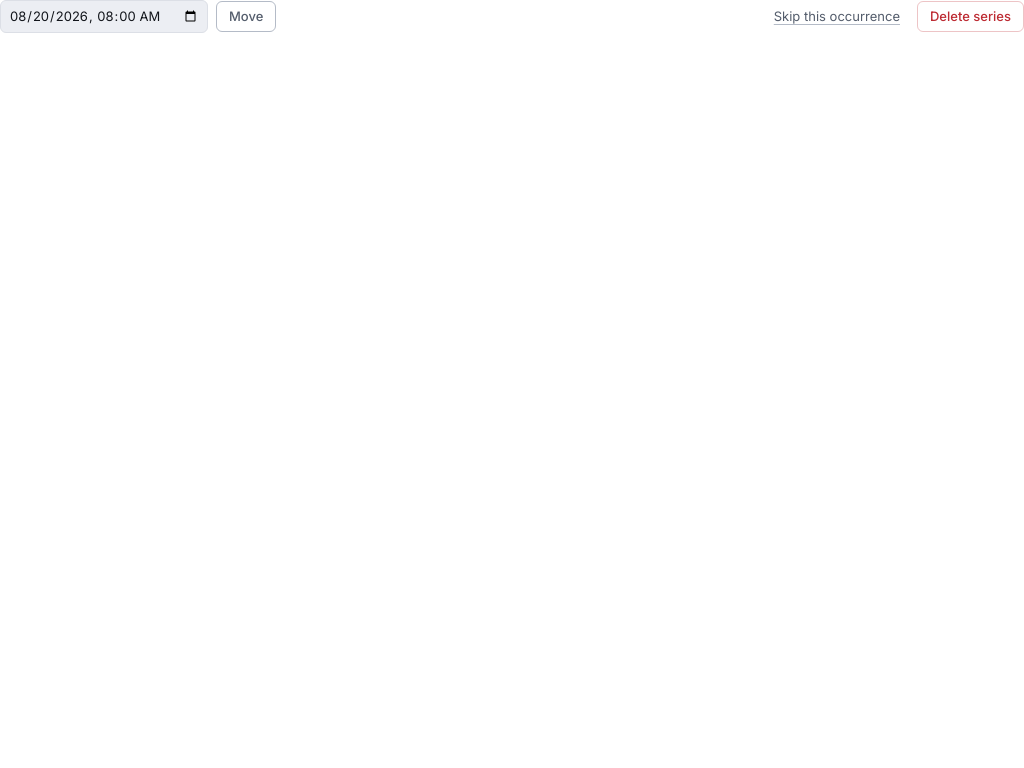
Test case: skipping and deleting › leaves the series standing when the modal is cancelled
Click the button "Delete series" at (970, 17), box top-left (917, 1), bottom-right (1023, 32)
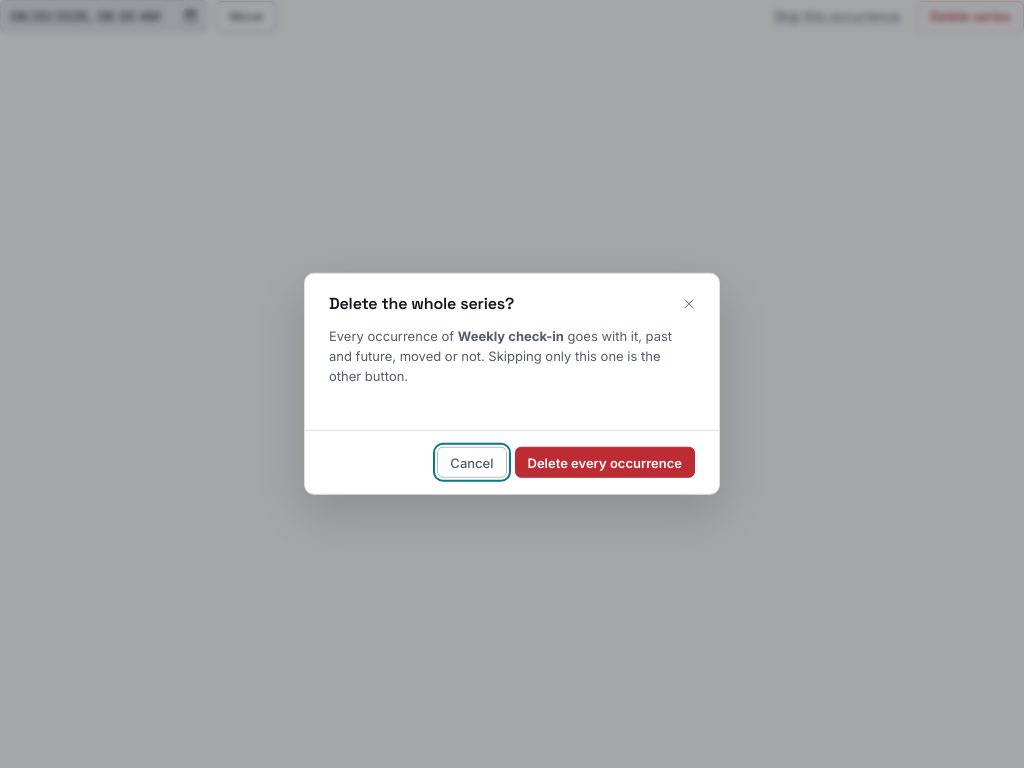
Click the button "Cancel" at (472, 463), box top-left (437, 447), bottom-right (506, 478)
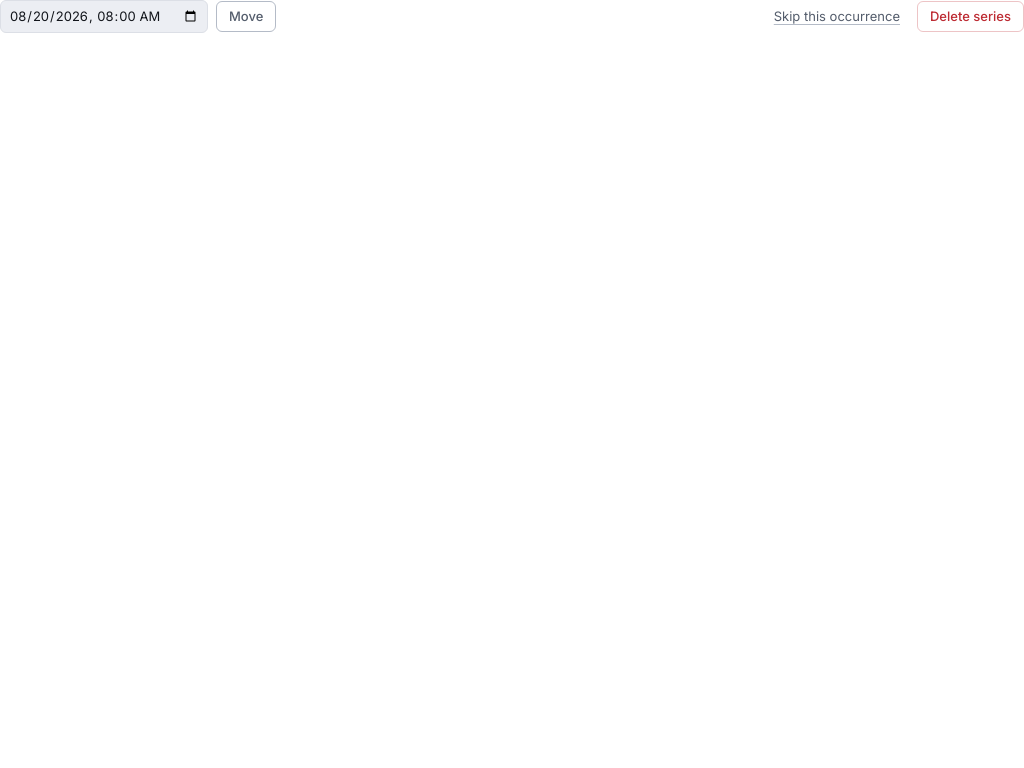
Now the dialog is gone
